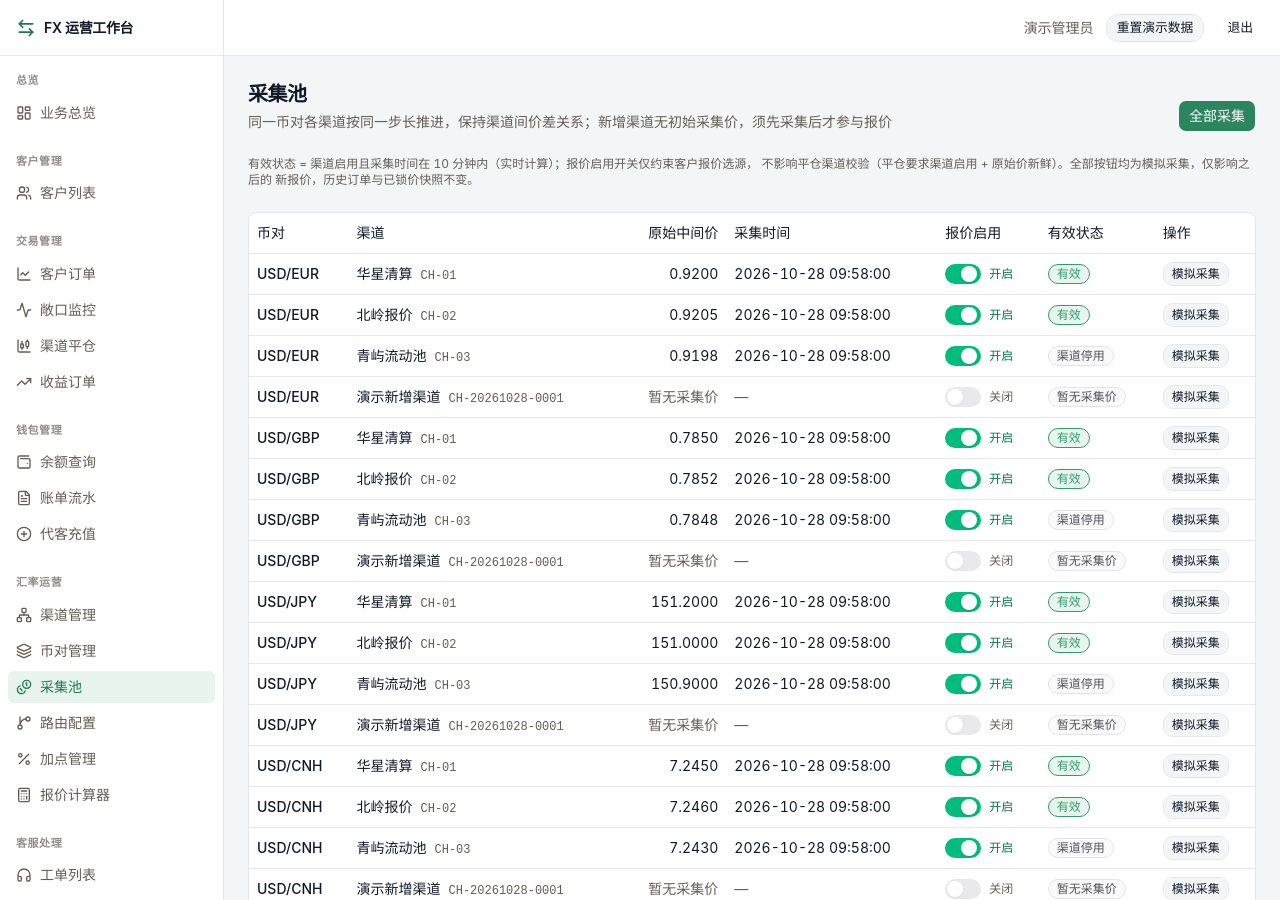
Test: 采集失败 › 无采集价的渠道行展示「暂无采集价」，首采（模拟采集）按基准步进生成首价（§5.4）
expect the text "暂无采集价" is shown: met, box [648, 388, 718, 404]
expect the switch named "报价启用 USD/EUR 演示新增渠道" is disabled: met, box [945, 386, 981, 406]
Click the 4th button "模拟采集" at (1196, 396), box [1163, 384, 1229, 408]
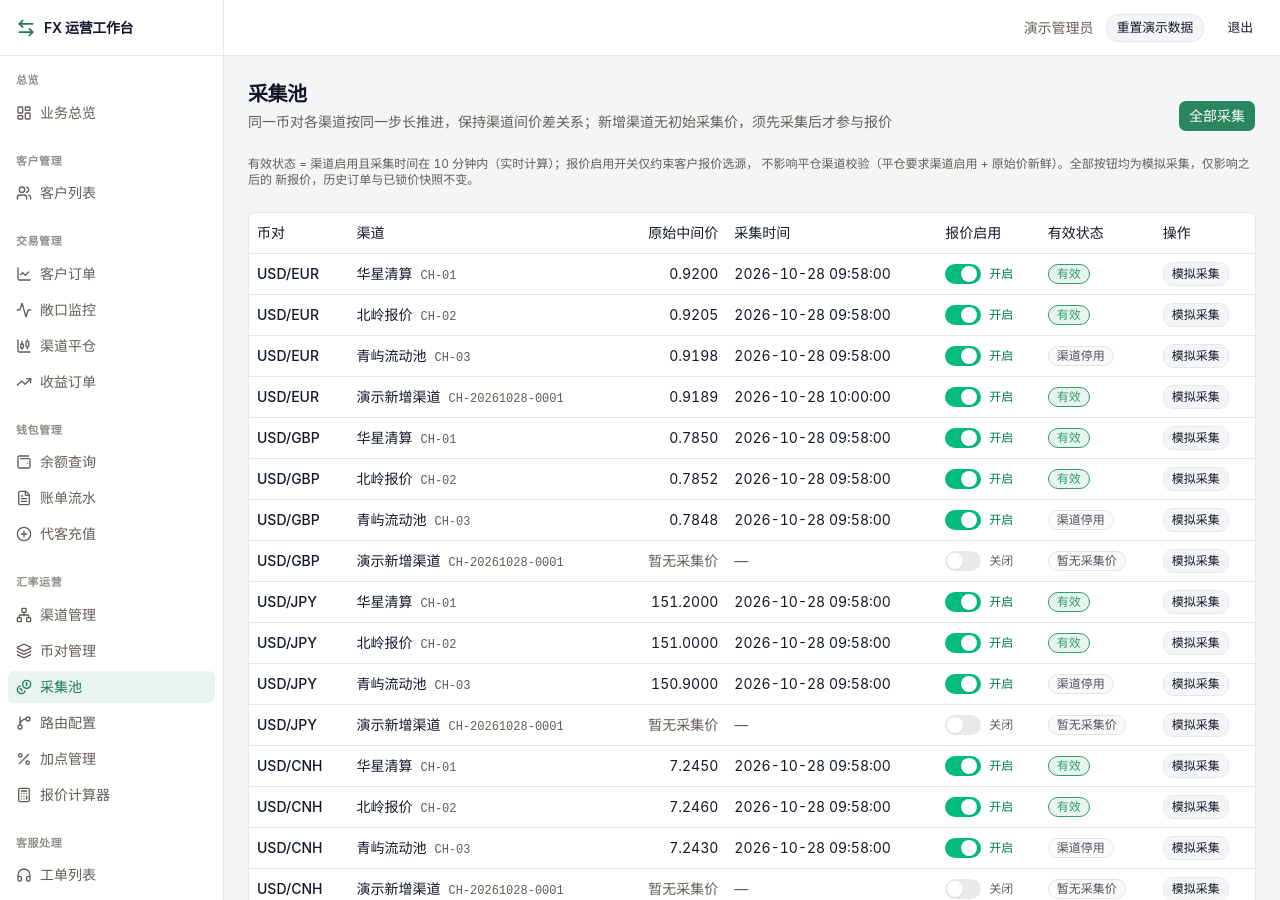
expect the text "暂无采集价" is gone: met
expect the switch named "报价启用 USD/EUR 演示新增渠道" is enabled: met, box [945, 386, 981, 406]
